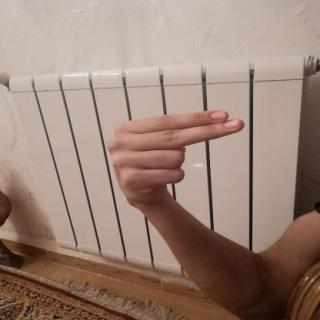AYN: (92, 104, 258, 211)
